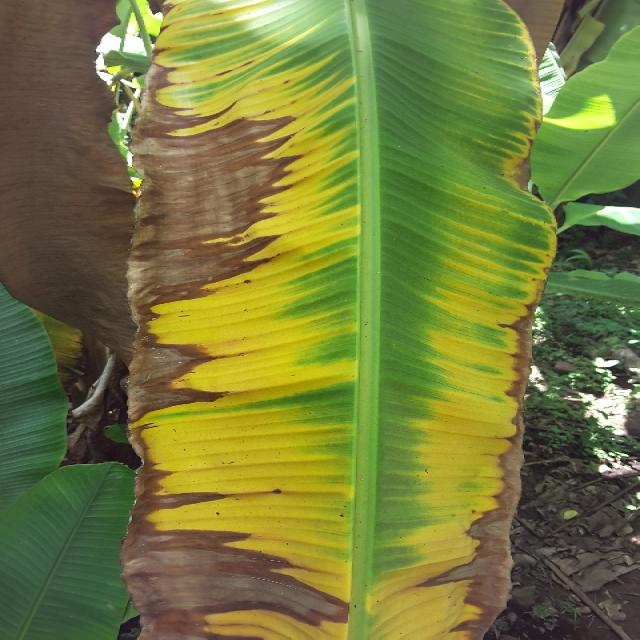Bract_mosaic_virus: (0, 0, 131, 363)
Cordana: (132, 2, 549, 640)
